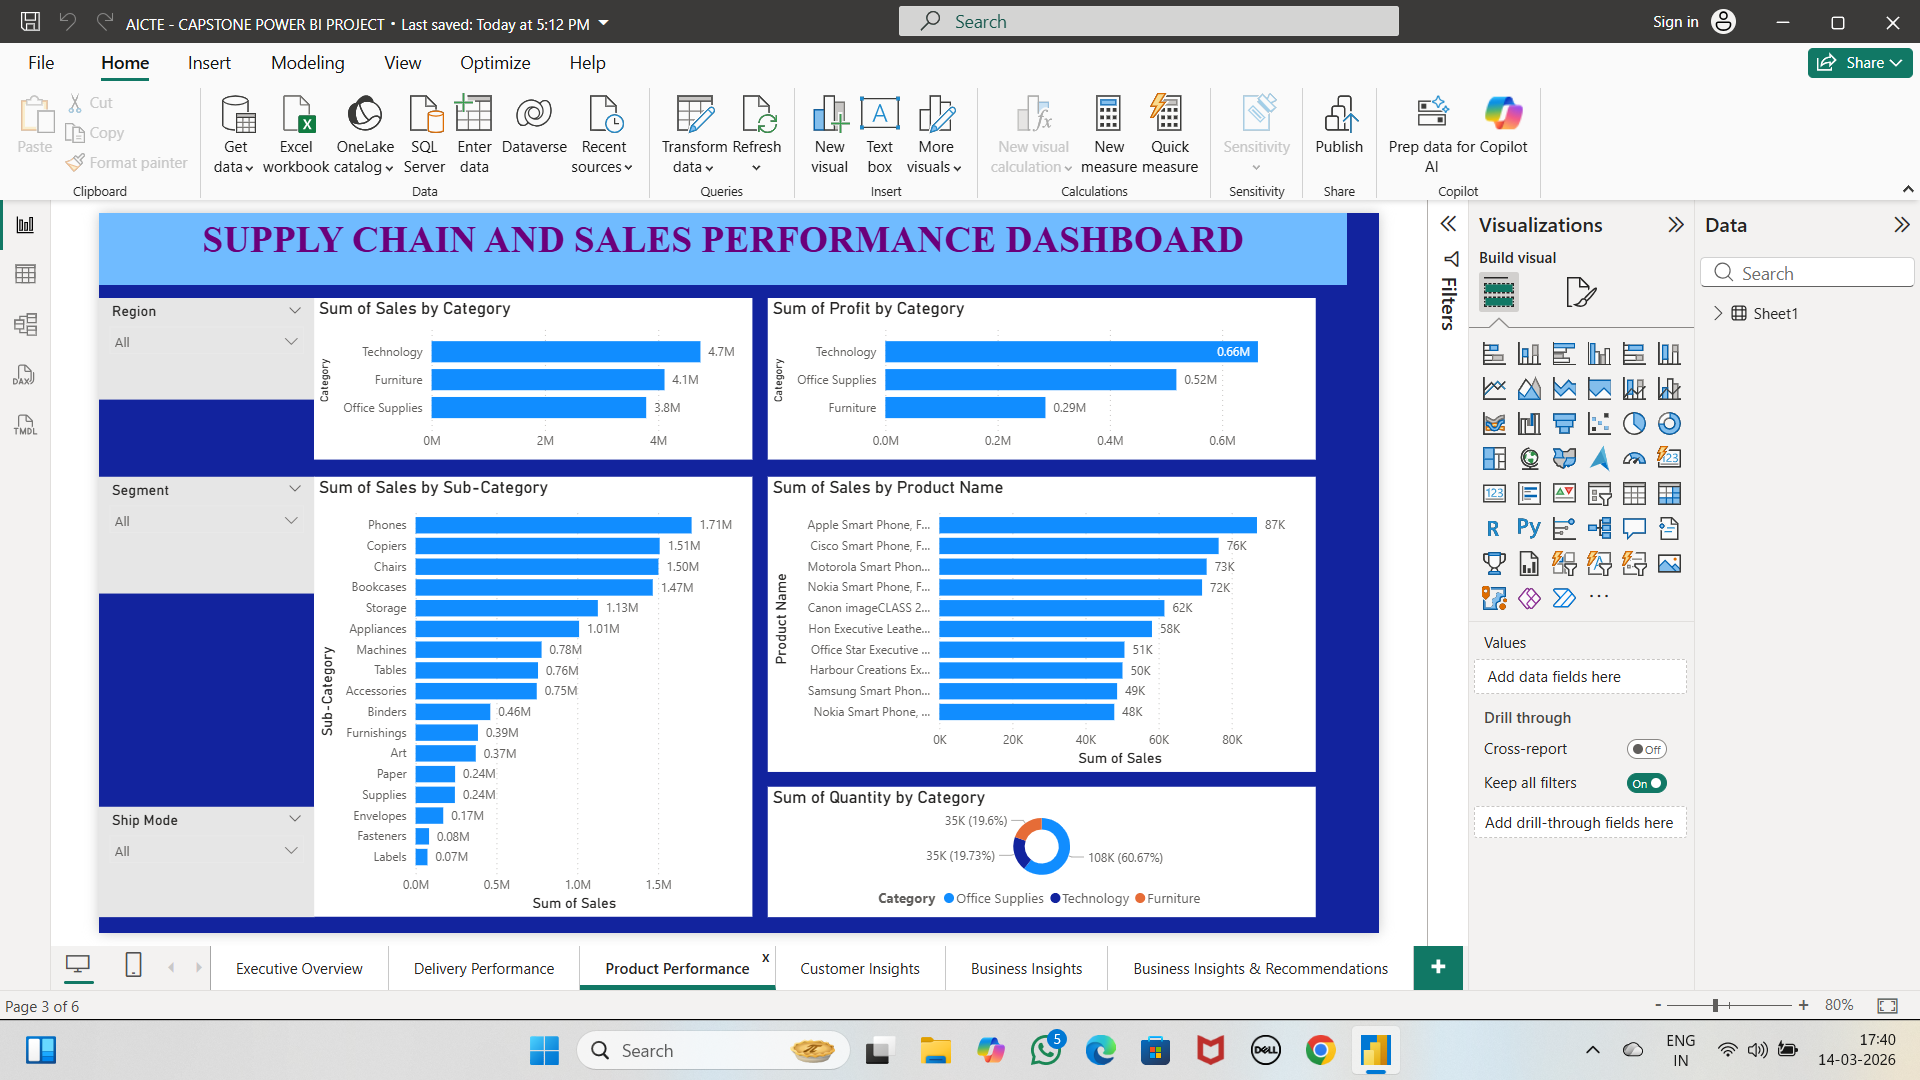

The dashboard page shown, as its layout file describes it:
{"tool":"powerbi","page":{"name":"Product Performance ","canvas":[1280,720],"ordinal":2},"visuals":[{"type":"barChart","fields":{"Category":["Sheet1.Category"],"Y":["Sum(Sheet1.Sales)"]},"box":[215,85,438.3,161.7],"z":0},{"type":"barChart","fields":{"Category":["Sheet1.Category"],"Y":["Sum(Sheet1.Profit)"]},"box":[668.3,85,548.3,161.7],"z":1000},{"type":"barChart","fields":{"Category":["Sheet1.Sub-Category"],"Y":["Sum(Sheet1.Sales)"]},"box":[215,263.3,438.3,440],"z":2000},{"type":"barChart","fields":{"Category":["Sheet1.Product Name"],"Y":["Sum(Sheet1.Sales)"]},"box":[668.3,263.3,548.3,295],"z":3000},{"type":"donutChart","fields":{"Category":["Sheet1.Category"],"Y":["Sum(Sheet1.Quantity)"]},"box":[668.3,573.3,548.3,130],"z":4000},{"type":"slicer","fields":{"Values":["Sheet1.Region"]},"box":[0,85,215,101.7],"z":5000},{"type":"slicer","fields":{"Values":["Sheet1.Segment"]},"box":[0,263.3,215,116.7],"z":6000},{"type":"slicer","fields":{"Values":["Sheet1.Ship Mode"]},"box":[0,593.3,215,110],"z":7000},{"type":"textbox","box":[0,0,1248.3,71.7],"z":8000}]}

Visuals, with their boxes on the page's 1280x720 design canvas (x1, y1, x2, y2). These are canvas units, not pixel positions in the 1920x1080 screenshot, which may show the page scaled, cropped or inside an application window:
barChart - Sheet1.Category x Sum(Sheet1.Sales): Rect(215, 85, 653, 247)
barChart - Sheet1.Category x Sum(Sheet1.Profit): Rect(668, 85, 1217, 247)
barChart - Sheet1.Sub-Category x Sum(Sheet1.Sales): Rect(215, 263, 653, 703)
barChart - Sheet1.Product Name x Sum(Sheet1.Sales): Rect(668, 263, 1217, 558)
donutChart - Sheet1.Category x Sum(Sheet1.Quantity): Rect(668, 573, 1217, 703)
slicer - Sheet1.Region: Rect(0, 85, 215, 187)
slicer - Sheet1.Segment: Rect(0, 263, 215, 380)
slicer - Sheet1.Ship Mode: Rect(0, 593, 215, 703)
textbox: Rect(0, 0, 1248, 72)
